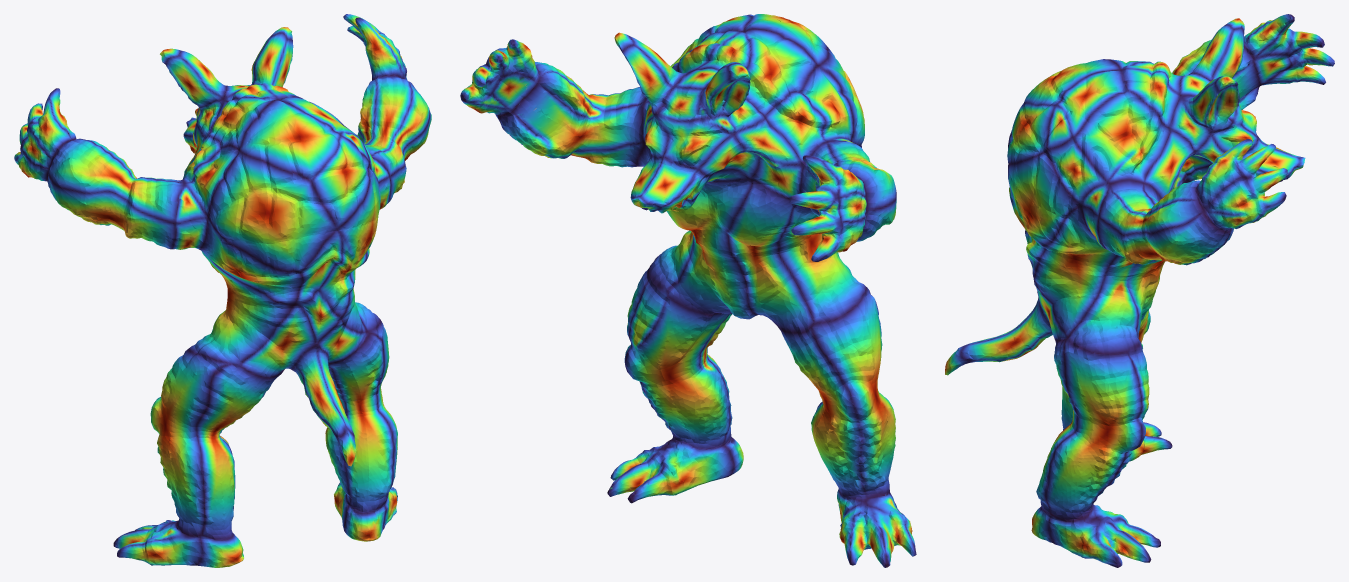
File: gen0.glb
The picture shows the model from 3 angles, left to right: view 1: azimuth 30°, elevation 25°; view 2: azimuth 150°, elevation 25°; view 3: azimuth 270°, elevation 25°; orthographic projection. The views are drawn at different scales.
Parts seen in each view (by area): view 1: Node; view 2: Node; view 3: Node.
Boxes of the visible parts, x1=… form: Node: x1=14, y1=14, x2=431, y2=567; Node: x1=460, y1=14, x2=916, y2=567; Node: x1=945, y1=14, x2=1334, y2=567.
Size of the model in its own units: 127 by 151 by 115.
1 material, 1 textured.
